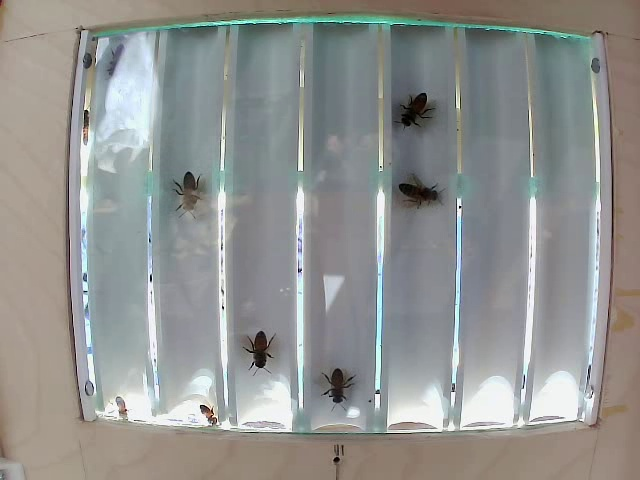bee: (227, 297, 282, 388), (396, 156, 445, 226), (392, 76, 449, 135), (168, 156, 204, 231), (324, 356, 349, 406)
